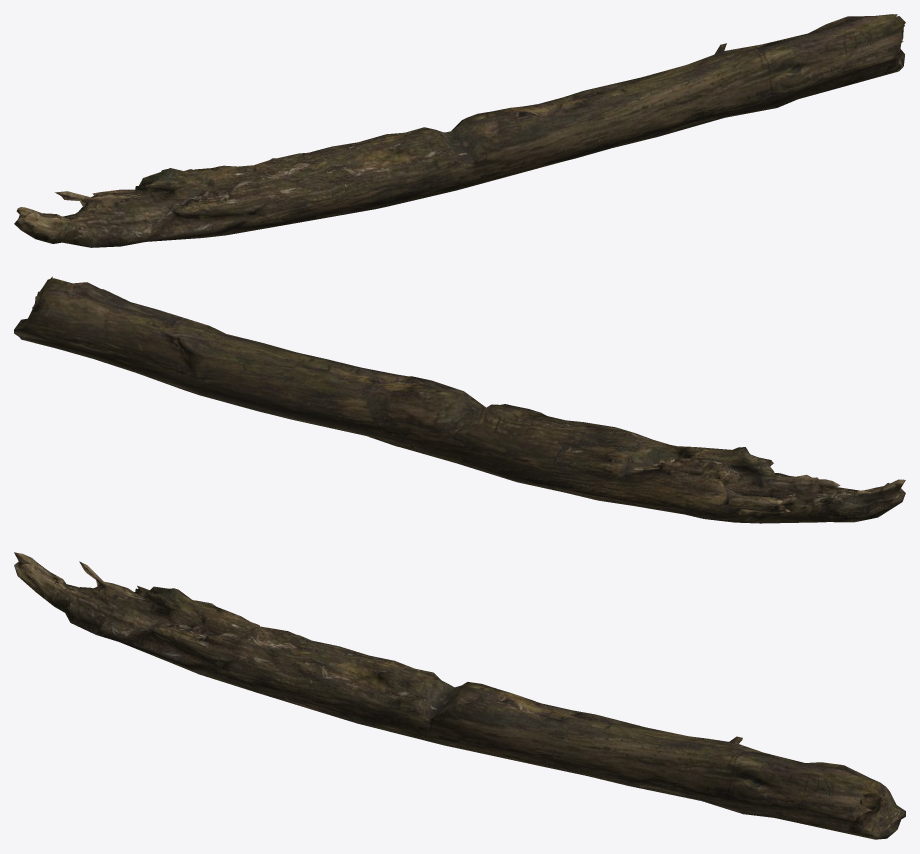
The model's file is lg-p-log.glb.
The picture shows the model from 3 angles, top to bottom: view 1: azimuth 30°, elevation 25°; view 2: azimuth 150°, elevation 25°; view 3: azimuth 330°, elevation 25°; orthographic projection.
Visible parts, largest first — view 1: dead_tree_trunk; view 2: dead_tree_trunk; view 3: dead_tree_trunk.
Part boxes in pixels (box(x1,y1,x2,y2)): dead_tree_trunk: box(14, 14, 905, 247); dead_tree_trunk: box(14, 276, 905, 523); dead_tree_trunk: box(14, 552, 905, 839).
Size of the model in its own units: 3.04 by 0.2869 by 0.2699.
1 material, 1 textured.
